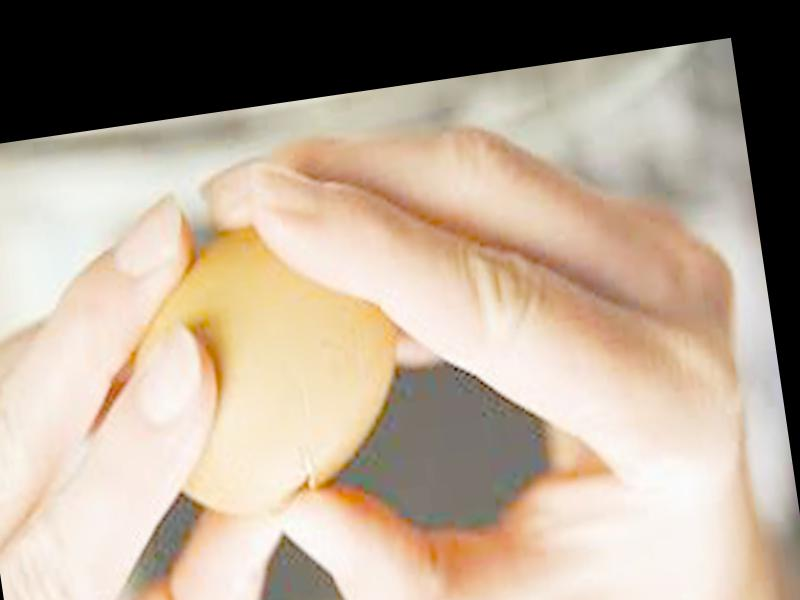Eggs: (113, 204, 417, 531)
